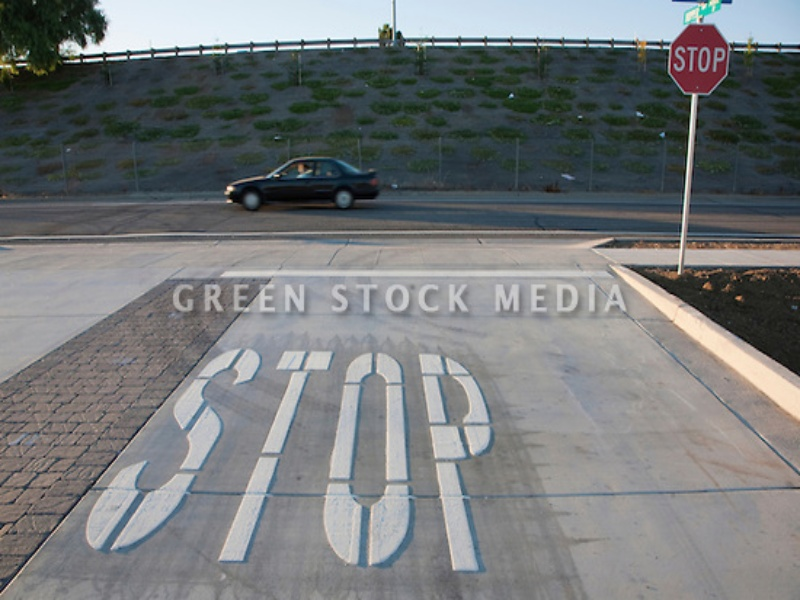stop sign: (666, 22, 730, 97)
